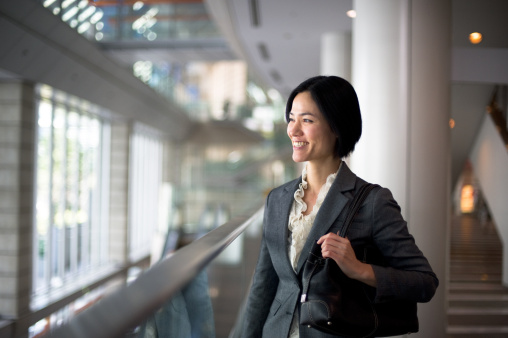em pe: (217, 76, 433, 338)
